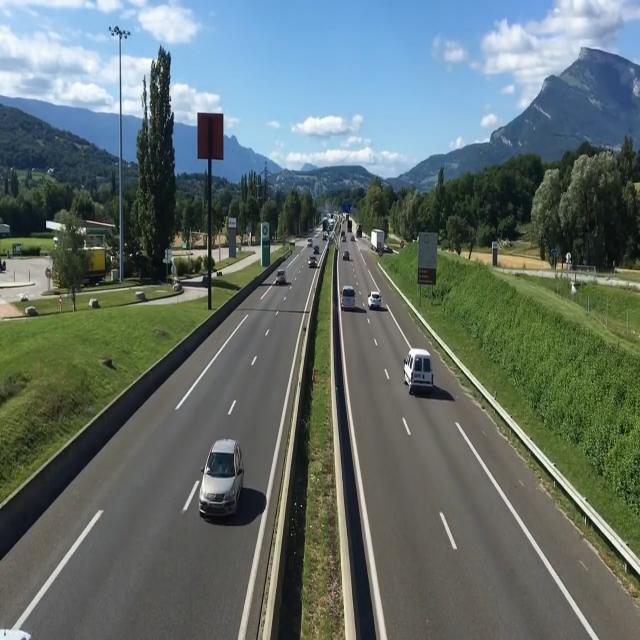car: (198, 429, 243, 520), (404, 349, 434, 400), (0, 620, 44, 640), (339, 283, 358, 314), (367, 289, 383, 313), (276, 267, 286, 290), (305, 254, 320, 269)
